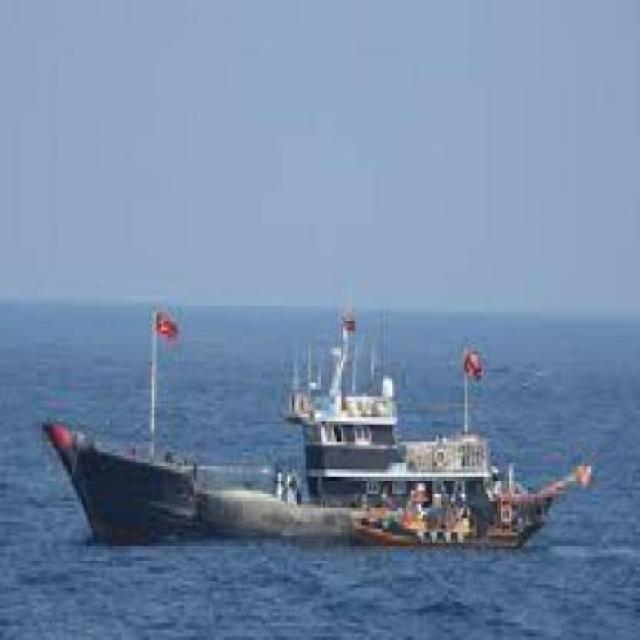fish-b: (24, 286, 609, 574)
